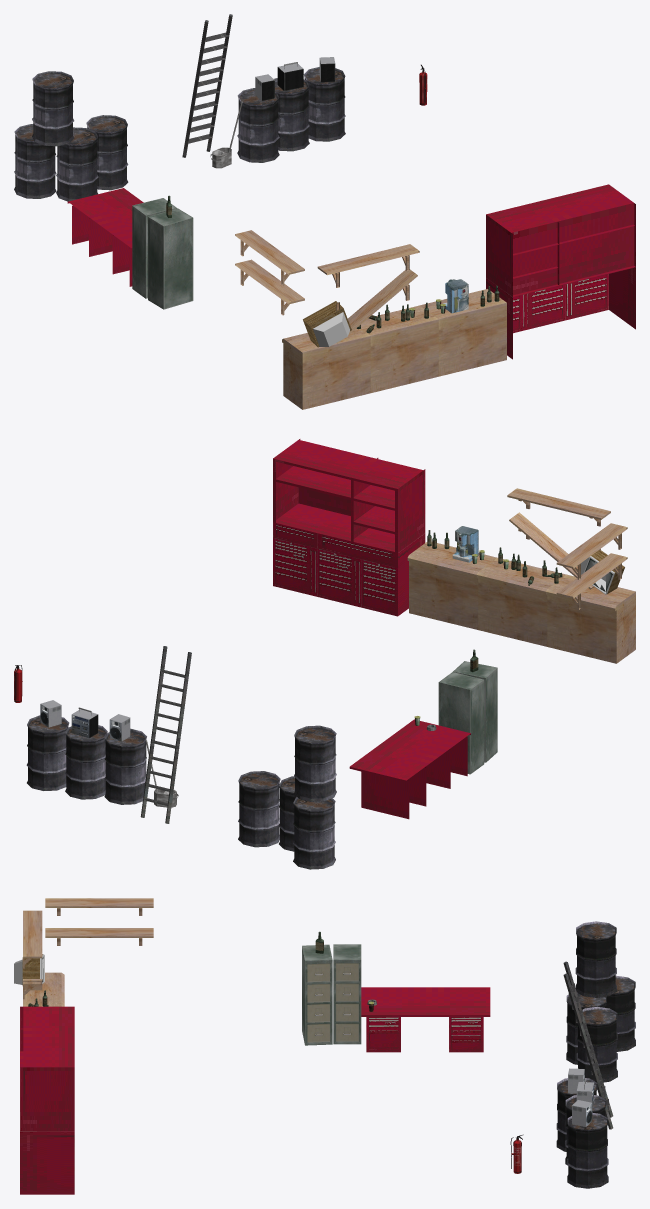
The model's file is hubprops1_sfs.obj.
3 renders of one model, top to bottom at view 1: azimuth 30°, elevation 25°; view 2: azimuth 150°, elevation 25°; view 3: azimuth 270°, elevation 25°, orthographic.
Parts seen in each view (by area): view 1: hubprops1_SFS; view 2: hubprops1_SFS; view 3: hubprops1_SFS.
Part boxes in pixels (left/top/right/bottom): hubprops1_SFS: left=14, top=14, right=635, bottom=409; hubprops1_SFS: left=14, top=439, right=635, bottom=869; hubprops1_SFS: left=14, top=898, right=635, bottom=1194.
Size of the model in its own units: 7.79 by 3.06 by 11.1.
